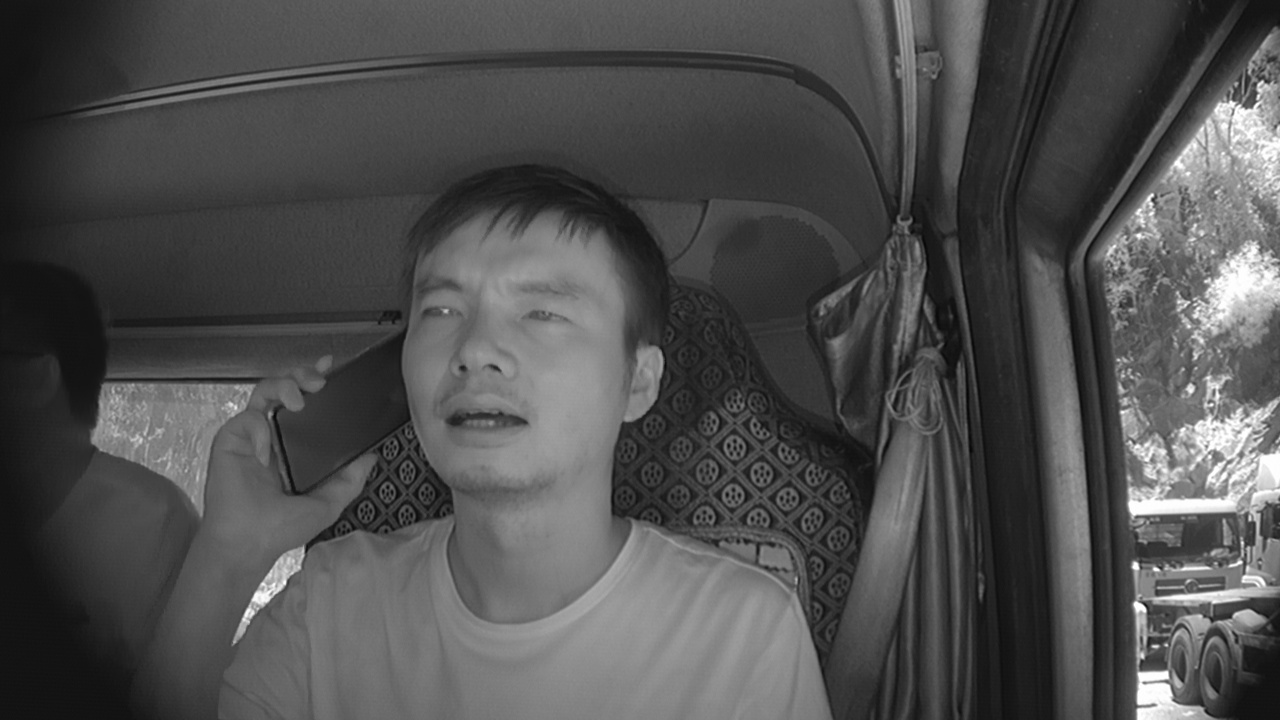hand: (208, 354, 364, 553)
